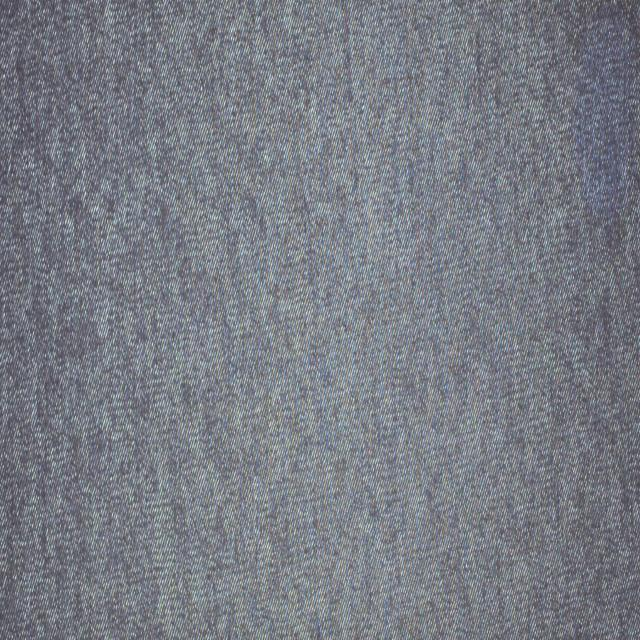Stain: (576, 0, 640, 224)
